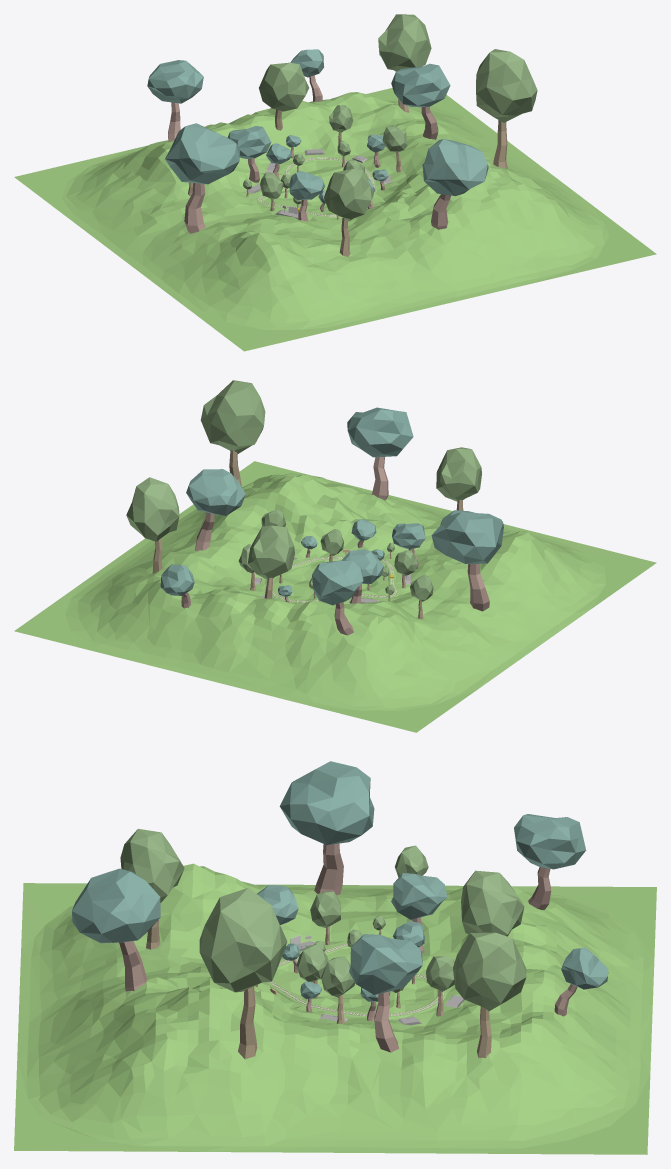
The model's file is world.glb.
3 views of the same model, one above another, from view 1: azimuth 30°, elevation 25°; view 2: azimuth 150°, elevation 25°; view 3: azimuth 270°, elevation 25° (orthographic). The views are drawn at different scales.
Parts seen in each view (by area): view 1: ground, tree2.008, tree1.011, tree2.011, tree1.012, tree2.013, tree1.014, tree2.010, tree1.010, tree2.002, tree2.001, tree2.005 (+4 smaller); view 2: ground, tree2.008, tree1.011, tree2.011, tree1.012, tree2.013, tree2.010, tree1.010, tree1.014, tree2.005, tree2.002, tree2.001 (+3 smaller); view 3: ground, tree1.011, tree2.008, tree2.011, tree1.012, tree2.013, tree2.010, tree1.010, tree1.014, tree2.002, tree2.005, tree1.006 (+7 smaller).
Boxes of the visible parts, x1=… form: ground: x1=14, y1=88, x2=656, y2=351; tree2.008: x1=165, y1=123, x2=239, y2=233; tree1.011: x1=476, y1=49, x2=537, y2=168; tree2.011: x1=422, y1=139, x2=488, y2=229; tree1.012: x1=378, y1=14, x2=431, y2=112; tree2.013: x1=391, y1=63, x2=450, y2=139; tree1.014: x1=324, y1=168, x2=373, y2=256; tree2.010: x1=147, y1=60, x2=203, y2=142; tree1.010: x1=259, y1=62, x2=308, y2=130; tree2.002: x1=227, y1=126, x2=271, y2=182; tree2.001: x1=289, y1=171, x2=324, y2=221; tree2.005: x1=290, y1=49, x2=323, y2=101; ground: x1=14, y1=461, x2=656, y2=732; tree2.008: x1=431, y1=510, x2=503, y2=611; tree1.011: x1=200, y1=380, x2=265, y2=487; tree2.011: x1=347, y1=407, x2=413, y2=500; tree1.012: x1=126, y1=477, x2=179, y2=573; tree2.013: x1=186, y1=469, x2=245, y2=550; tree2.010: x1=312, y1=560, x2=363, y2=635; tree1.010: x1=247, y1=525, x2=294, y2=598; tree1.014: x1=436, y1=447, x2=481, y2=510; tree2.005: x1=160, y1=564, x2=194, y2=608; tree2.002: x1=342, y1=549, x2=383, y2=603; tree2.001: x1=392, y1=523, x2=425, y2=568; ground: x1=14, y1=863, x2=656, y2=1154; tree1.011: x1=199, y1=887, x2=287, y2=1059; tree2.008: x1=279, y1=761, x2=374, y2=894; tree2.011: x1=72, y1=868, x2=160, y2=991; tree1.012: x1=453, y1=932, x2=526, y2=1058; tree2.013: x1=349, y1=934, x2=422, y2=1052; tree2.010: x1=514, y1=814, x2=586, y2=909; tree1.010: x1=461, y1=870, x2=524, y2=936; tree1.014: x1=120, y1=828, x2=184, y2=949; tree2.002: x1=391, y1=873, x2=447, y2=953; tree2.005: x1=554, y1=947, x2=608, y2=1016; tree1.006: x1=321, y1=956, x2=355, y2=1023.
Bounding box in the file's own units: 99.81 × 36.11 × 99.81.
